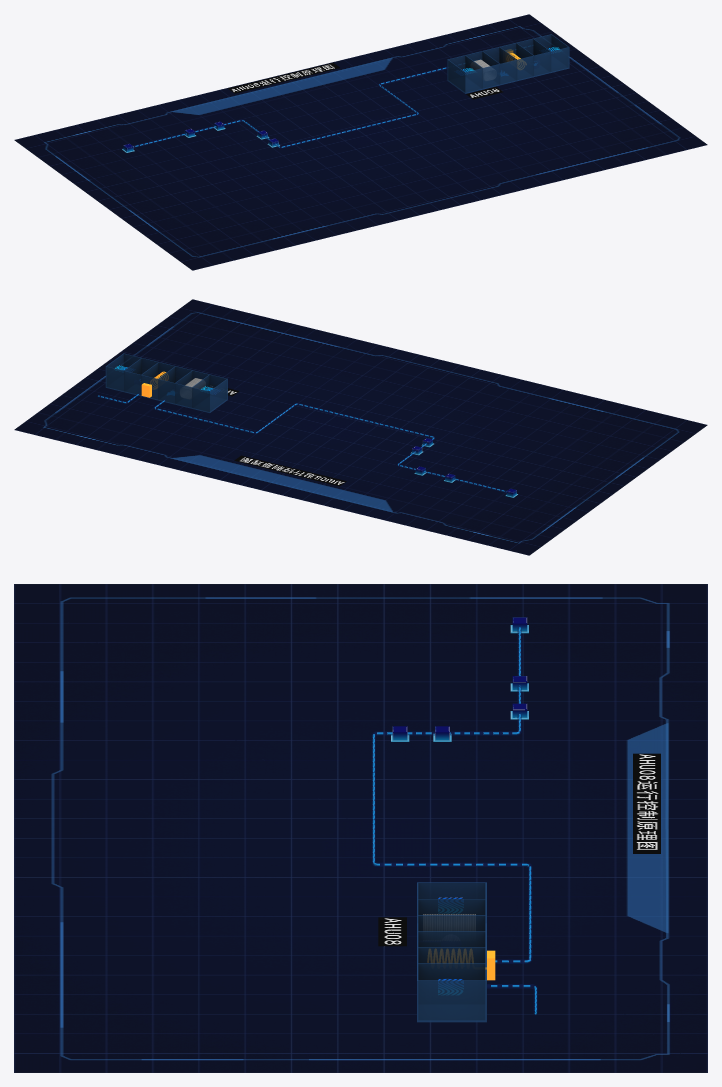
File: AHU08.FBX
The picture shows the model from 3 angles, top to bottom: view 1: azimuth 30°, elevation 25°; view 2: azimuth 150°, elevation 25°; view 3: azimuth 270°, elevation 25°; orthographic projection. The views are drawn at different scales.
Parts seen in each view (by area): view 1: BG, MAU_Body, RoomName, AHU08_Pipe, AHU08_Wind, Outlet294; view 2: BG, MAU_Body, AHU08_Pipe, RoomName, AHU08_Wind, Outlet294; view 3: BG, MAU_Body, RoomName, AHU08_Pipe, AHU08_Wind, Outlet294, Coil.
Boxes of the visible parts, box(x1,y1,x2,y2) form: BG: box(14, 14, 707, 270); MAU_Body: box(447, 34, 569, 93); RoomName: box(228, 62, 503, 99); AHU08_Pipe: box(134, 67, 447, 148); AHU08_Wind: box(133, 67, 446, 147); Outlet294: box(122, 121, 279, 152); BG: box(14, 299, 707, 555); MAU_Body: box(105, 353, 227, 412); AHU08_Pipe: box(98, 393, 506, 492); RoomName: box(210, 384, 346, 486); AHU08_Wind: box(98, 394, 506, 491); Outlet294: box(410, 438, 517, 497); BG: box(14, 584, 707, 1072); MAU_Body: box(417, 882, 486, 1022); RoomName: box(378, 753, 660, 946); AHU08_Pipe: box(372, 627, 537, 1014); AHU08_Wind: box(372, 627, 536, 1014); Outlet294: box(391, 617, 528, 741); Coil: box(423, 914, 475, 930).
Size of the model in its own units: 250 by 14.04 by 150.
